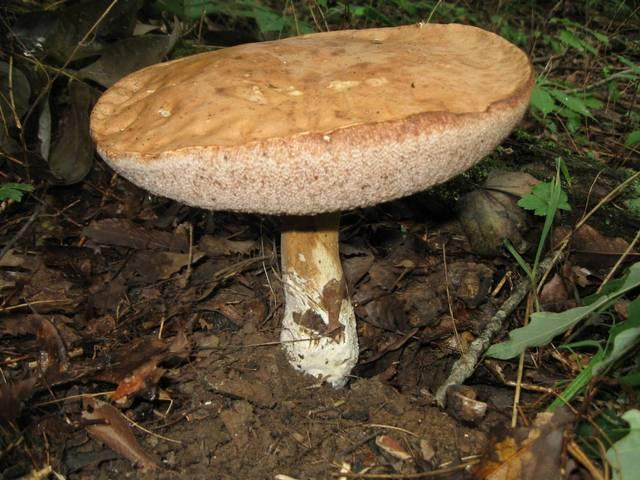Non-edible Mushroom: (87, 20, 535, 389)
